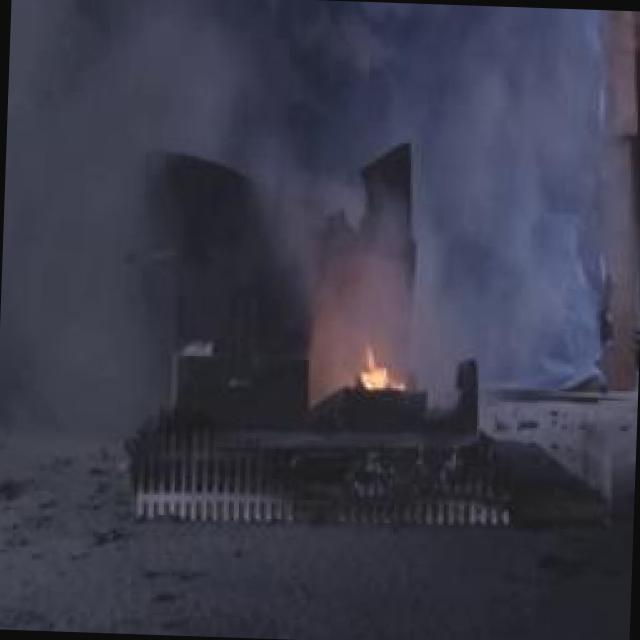fire: (332, 334, 424, 405)
smoke: (51, 5, 582, 323)
